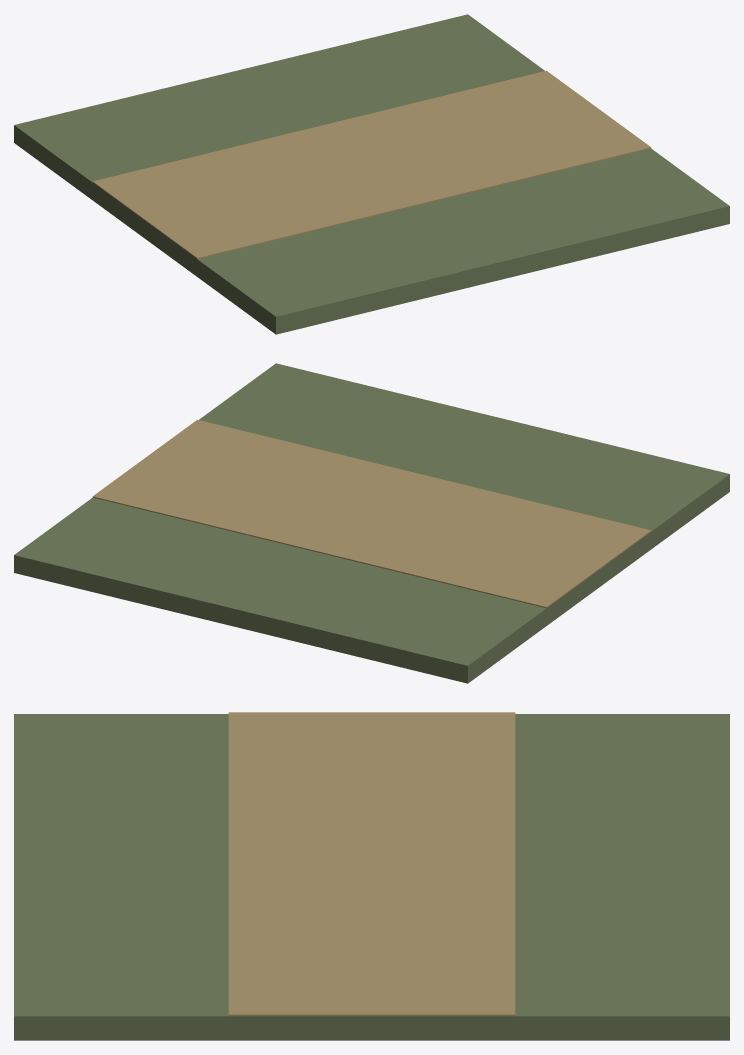
Rendered from terrain_tile_road_straight.glb.
The picture shows the model from 3 angles, top to bottom: view 1: azimuth 30°, elevation 25°; view 2: azimuth 150°, elevation 25°; view 3: azimuth 270°, elevation 25°; orthographic projection. The views are drawn at different scales.
Visible parts, largest first — view 1: terrain_tile_road_straight; view 2: terrain_tile_road_straight; view 3: terrain_tile_road_straight.
Boxes of the visible parts, box(x1,y1,x2,y2) form: terrain_tile_road_straight: box(14, 14, 729, 334); terrain_tile_road_straight: box(14, 363, 729, 683); terrain_tile_road_straight: box(14, 712, 729, 1040).
Bounding box in the file's own units: 8 × 0.32 × 8.
